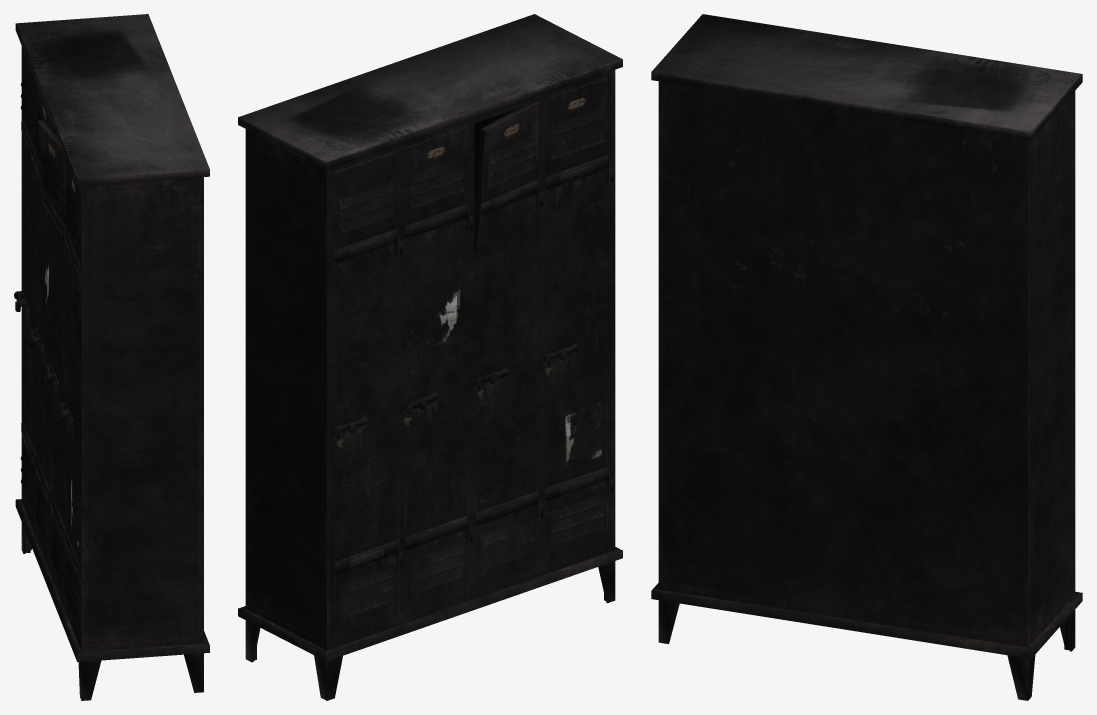
Rendered from Lockers.fbx.
3 views of the same model, side by side, from view 1: azimuth 30°, elevation 25°; view 2: azimuth 150°, elevation 25°; view 3: azimuth 270°, elevation 25° (orthographic). The views are drawn at different scales.
Visible parts, largest first — view 1: desirefx.me_001; view 2: desirefx.me_001; view 3: desirefx.me_001.
Part boxes in pixels (left/top/right/bottom): desirefx.me_001: left=14, top=14, right=209, bottom=700; desirefx.me_001: left=238, top=14, right=622, bottom=700; desirefx.me_001: left=651, top=14, right=1082, bottom=700.
Bounding box in the file's own units: 3.8 × 8.59 × 5.87.
